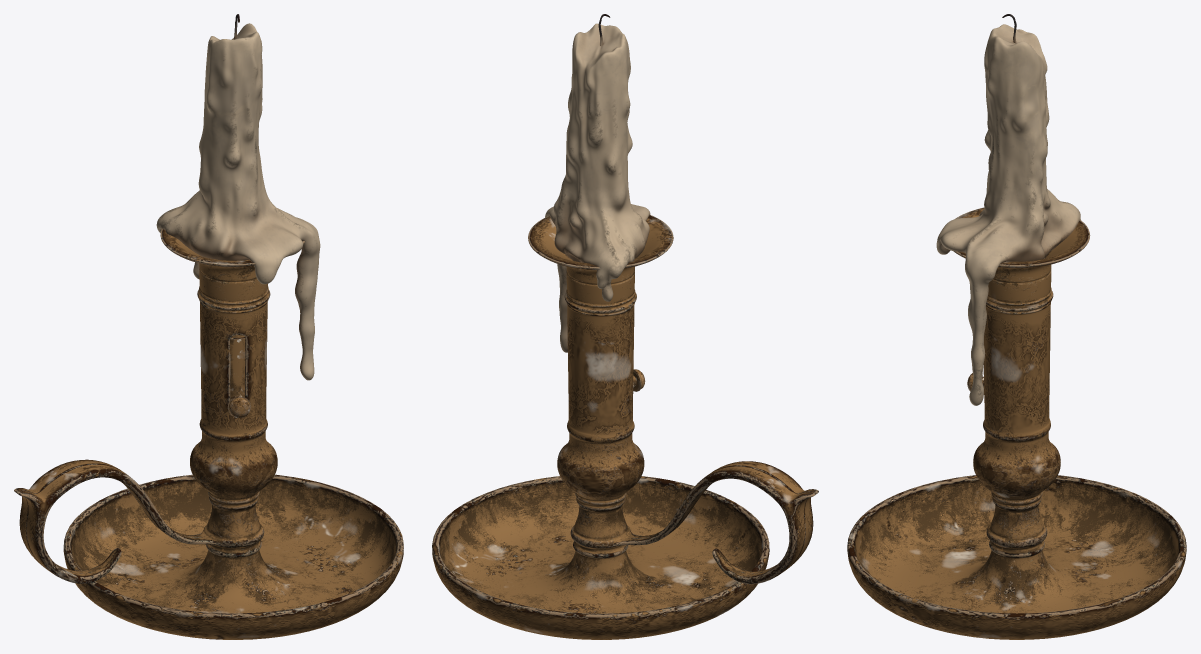
The model's file is candle.glb.
3 renders of one model, left to right at view 1: azimuth 30°, elevation 25°; view 2: azimuth 150°, elevation 25°; view 3: azimuth 270°, elevation 25°, orthographic.
Visible parts, largest first — view 1: chamberstick_Low, candle, pushup_part_Low; view 2: chamberstick_Low, candle; view 3: chamberstick_Low, candle.
Part boxes in pixels (x1,y1,x2,y2): chamberstick_Low: (14, 229, 403, 639); candle: (156, 23, 320, 380); pushup_part_Low: (227, 335, 251, 418); chamberstick_Low: (432, 215, 818, 639); candle: (545, 23, 650, 352); chamberstick_Low: (847, 207, 1186, 639); candle: (936, 24, 1080, 405).
Size of the model in its own units: 0.3736 by 0.5626 by 0.302.
Materials: 4 (4 with a texture image).
